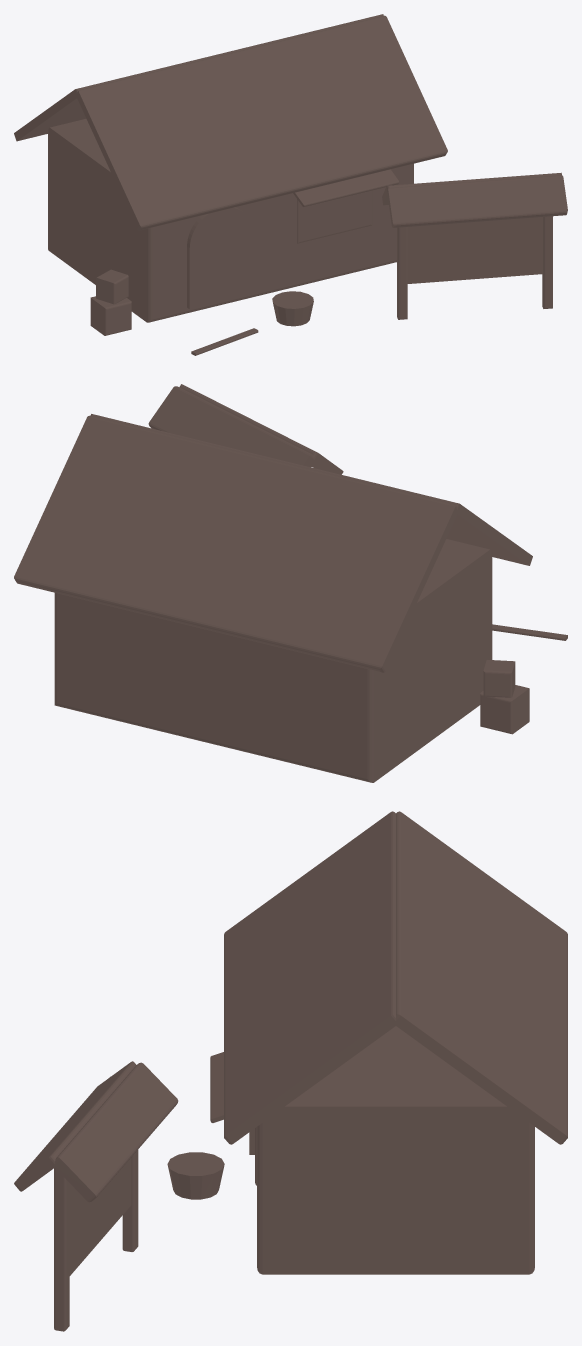
File: laborOffice.ol.glb
3 views of the same model, one above another, from view 1: azimuth 30°, elevation 25°; view 2: azimuth 150°, elevation 25°; view 3: azimuth 270°, elevation 25° (orthographic). The views are drawn at different scales.
Bounding box in the file's own units: 13.28 × 6.98 × 12.19.
